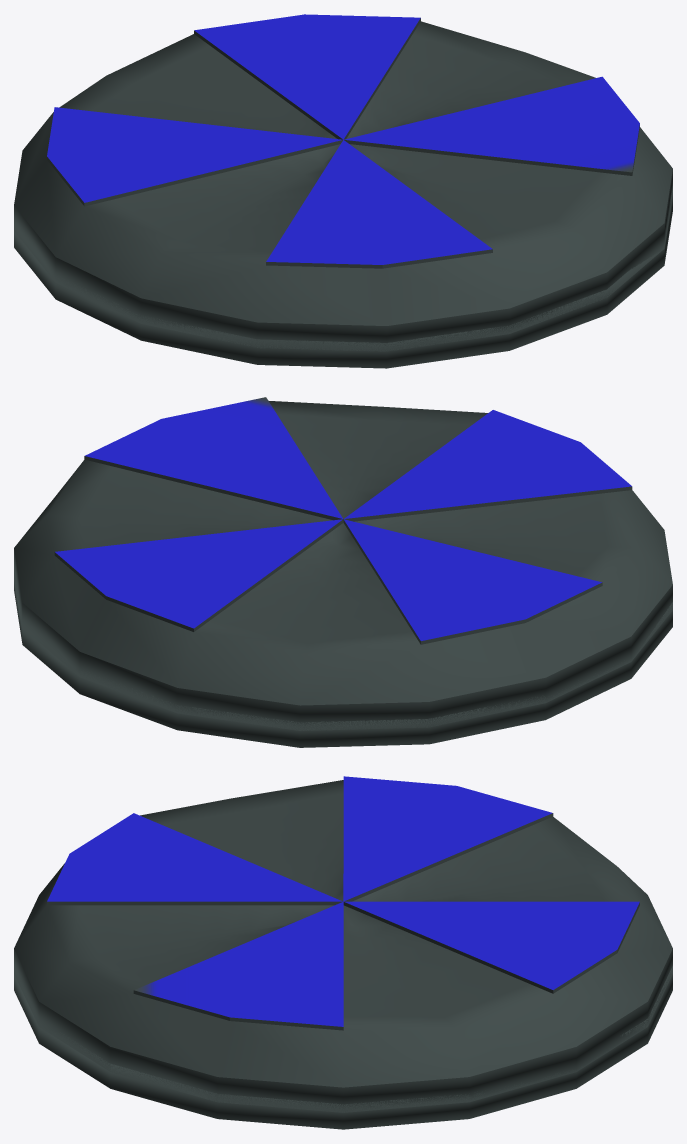
Rendered from mines.FBX.
3 renders of one model, top to bottom at view 1: azimuth 30°, elevation 25°; view 2: azimuth 150°, elevation 25°; view 3: azimuth 270°, elevation 25°, orthographic.
Parts seen in each view (by area): view 1: Cylinder001; view 2: Cylinder001; view 3: Cylinder001.
Part boxes in pixels (<box>): Cylinder001: <box>14,14,672,368</box>; Cylinder001: <box>14,397,672,747</box>; Cylinder001: <box>14,776,672,1129</box>.
Bounding box in the file's own units: 57.82 × 57.82 × 8.59.
Materials: 1 (1 with a texture image).
